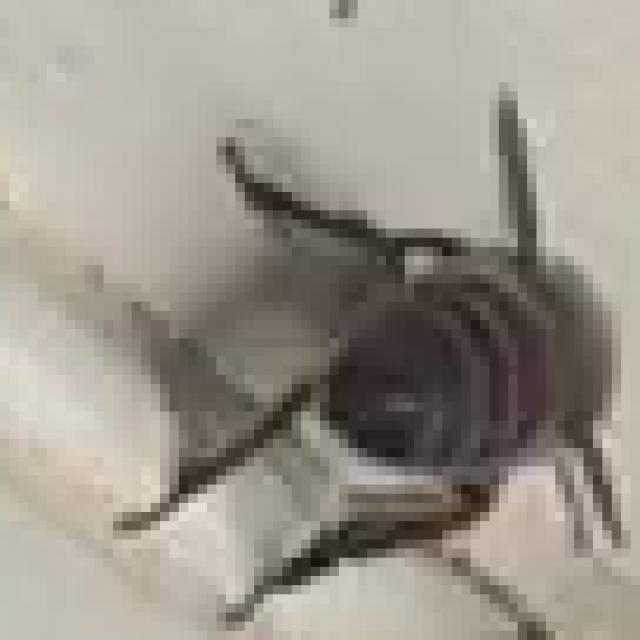honeybee: (111, 63, 639, 640)
